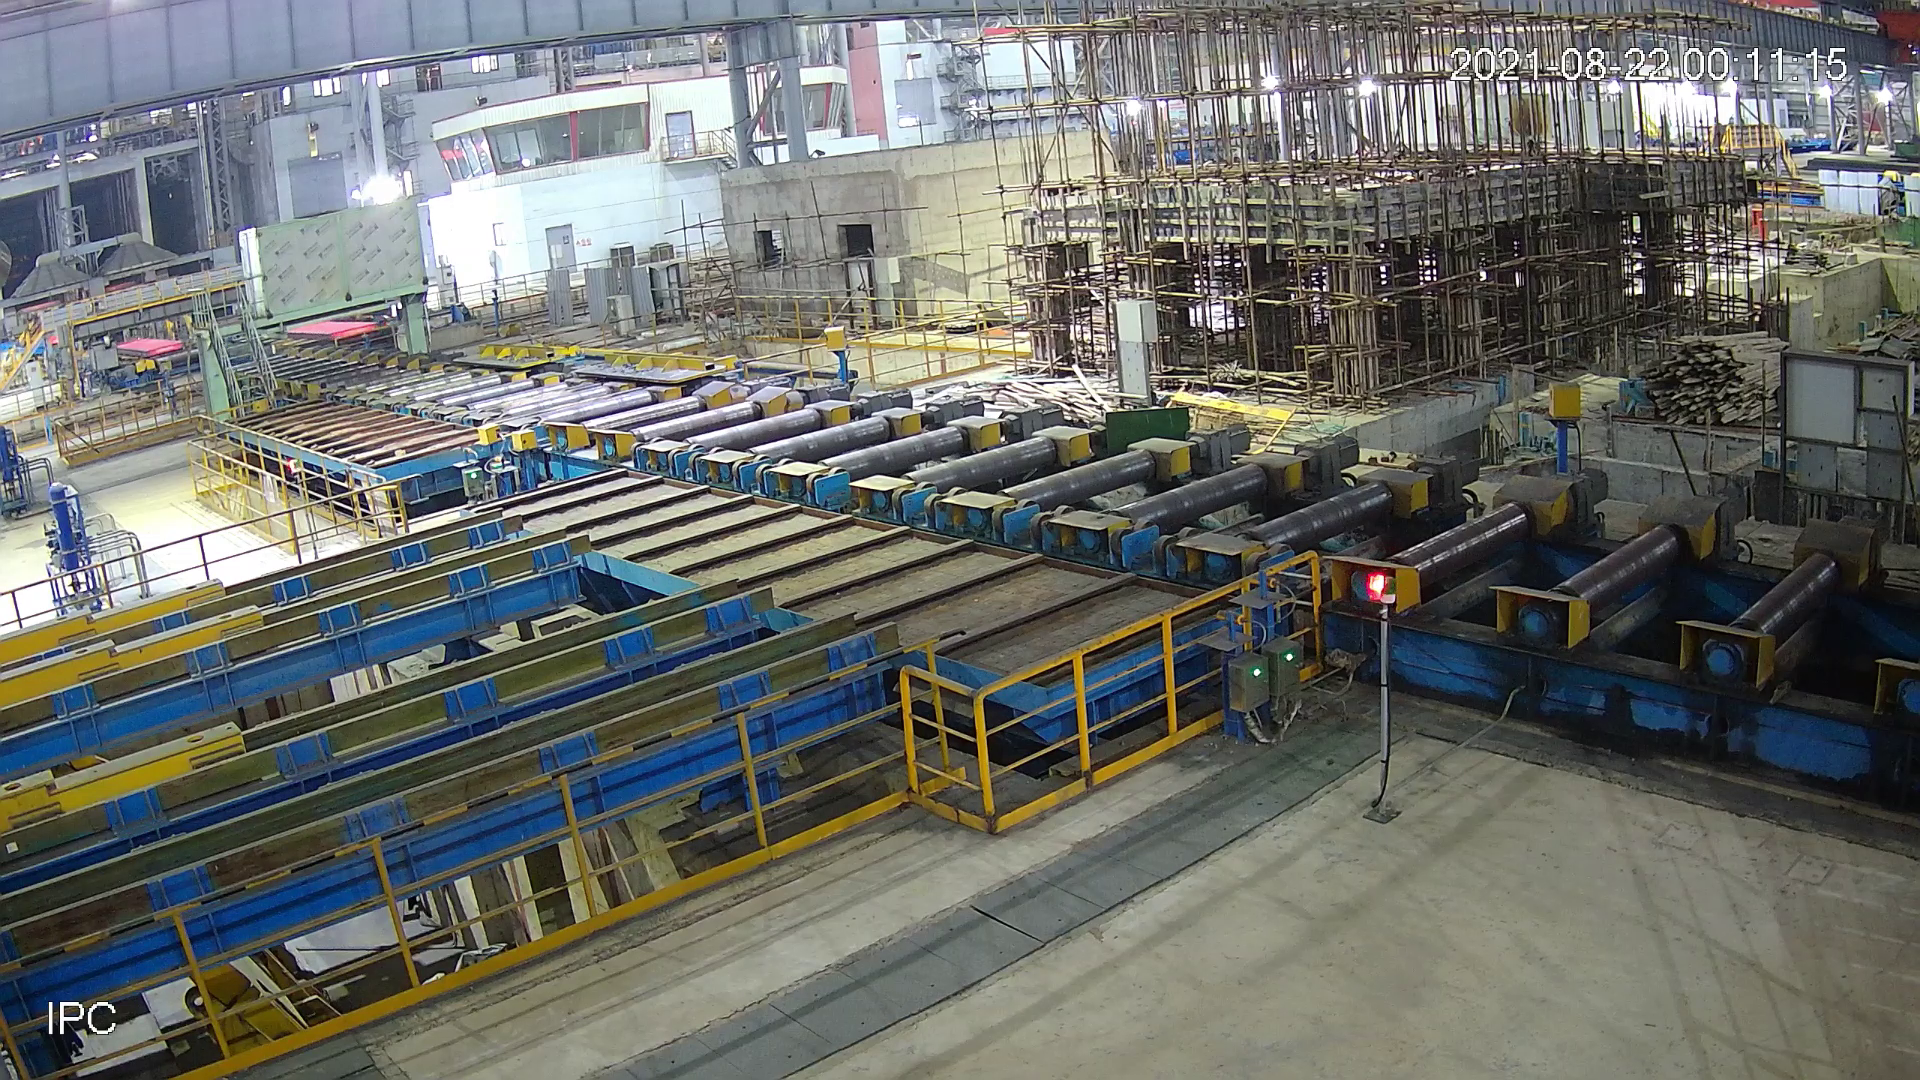craneandslab: (795, 38, 978, 171)
slab: (998, 298, 1404, 448), (1575, 178, 1692, 225)
